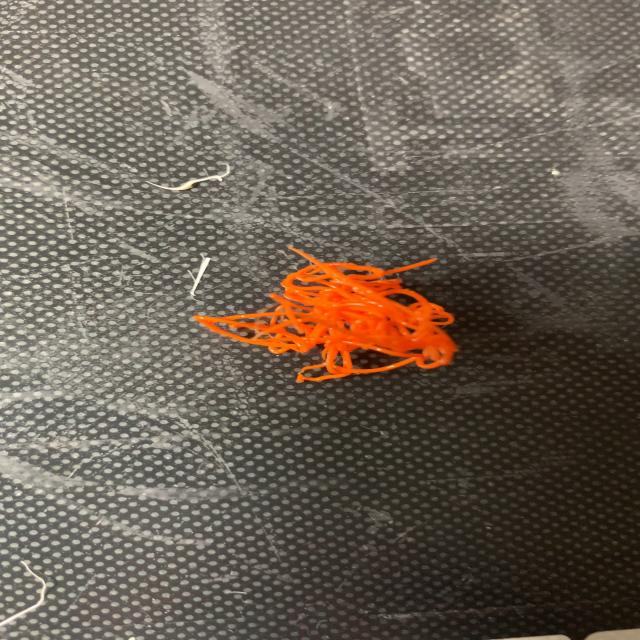spaghetti: (190, 244, 460, 384)
